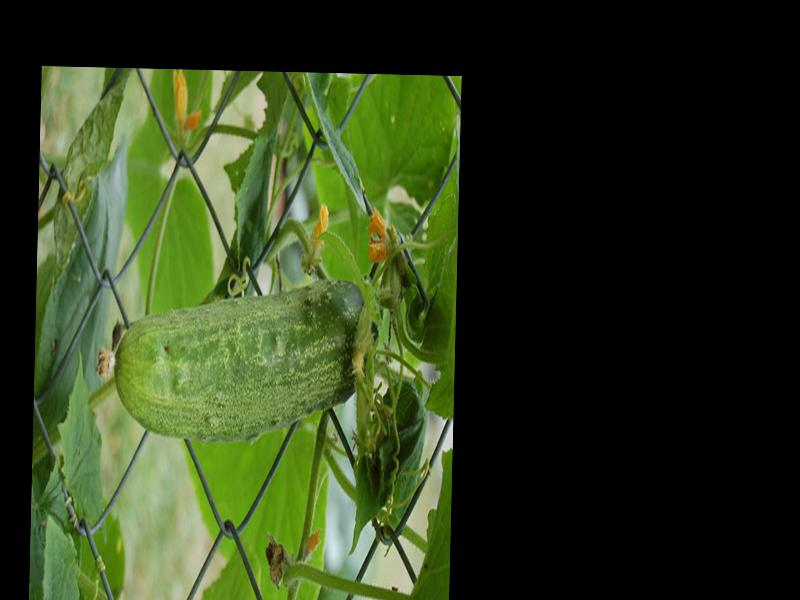Cucumber: (97, 278, 377, 442)
